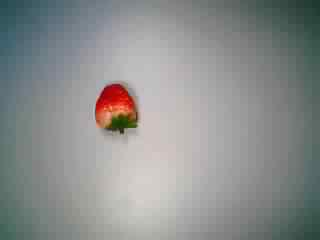strawberry: (83, 77, 151, 141)
